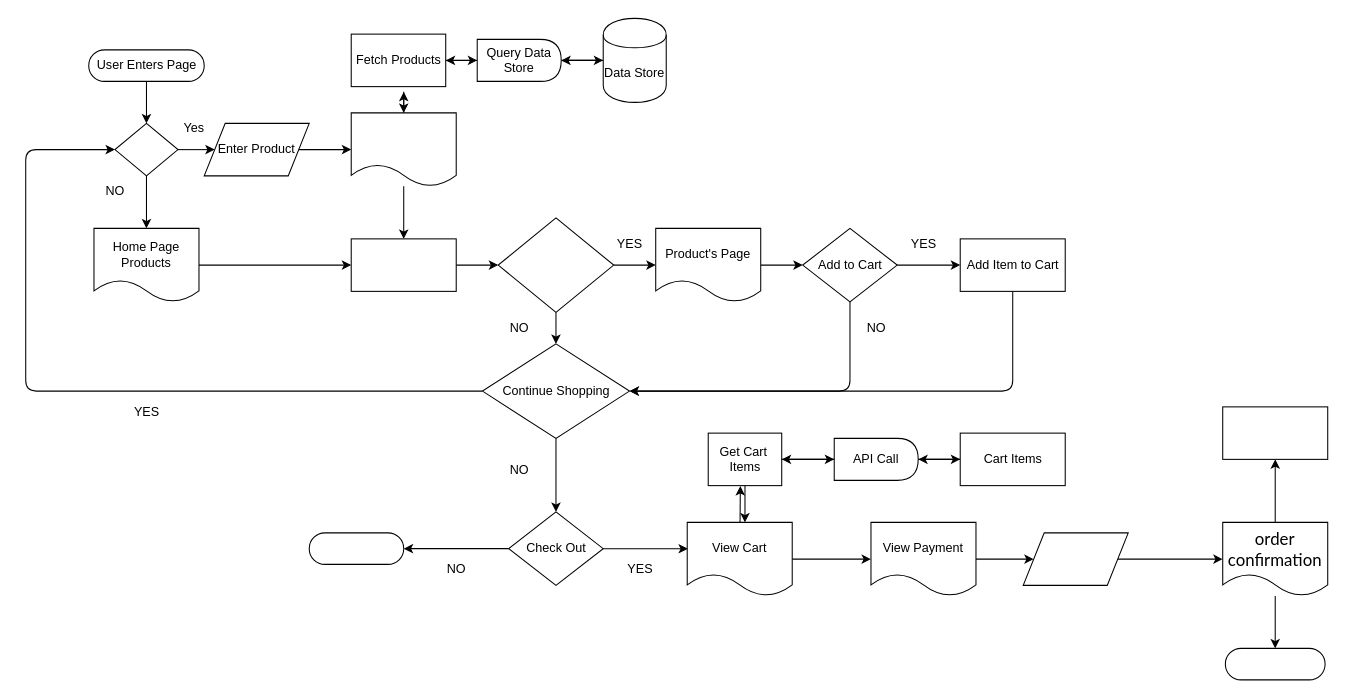
Image size: 1346x698. Some labels were removed from this diagram. The centre of each missing label's shape, as x and y in pixels:
Give Payment: the point at 1075,558
Leave Website: the point at 356,548
Leaves Website: the point at 1274,663
Search: the point at 146,149
Searched Products: the point at 403,149
Send order confrimation email: the point at 1275,432
User Looks Over Products: the point at 403,264
View Specific Product: the point at 555,264
